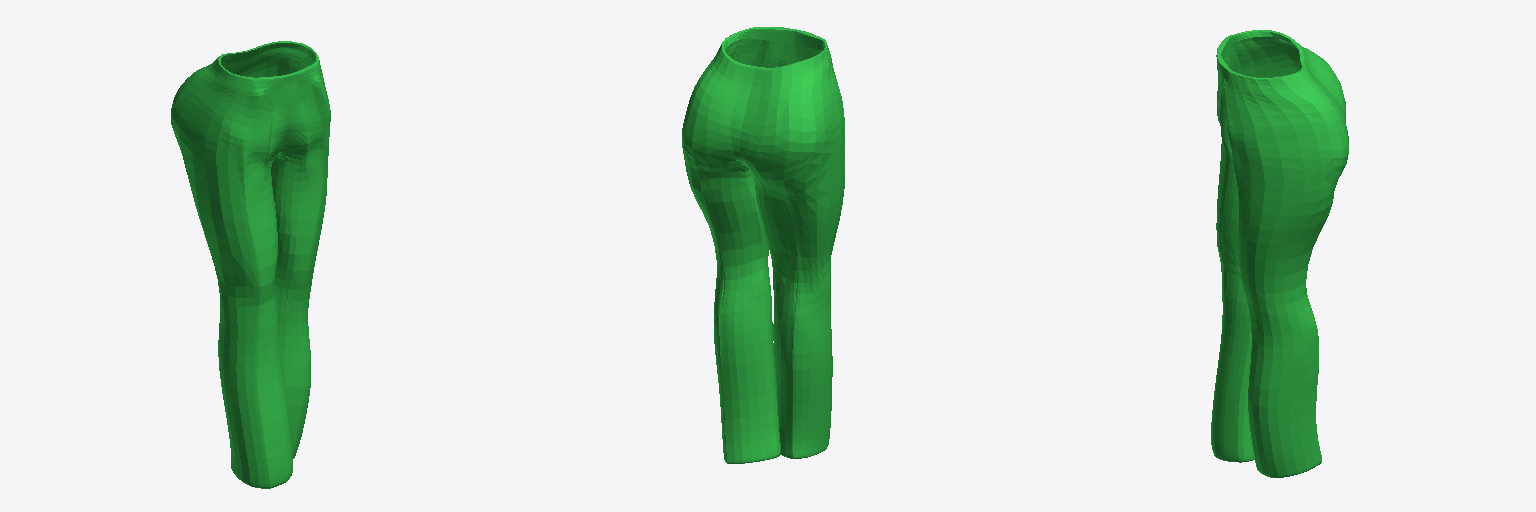
File: geziku4.obj
3 views of the same model, side by side, from view 1: azimuth 30°, elevation 25°; view 2: azimuth 150°, elevation 25°; view 3: azimuth 270°, elevation 25° (orthographic).
Parts seen in each view (by area): view 1: geziku; view 2: geziku; view 3: geziku.
Part boxes in pixels (x1,y1,x2,y2): geziku: (171, 41, 330, 488); geziku: (682, 27, 844, 463); geziku: (1211, 30, 1348, 477).
Bounding box in the file's own units: 1.99 × 5.83 × 1.77.